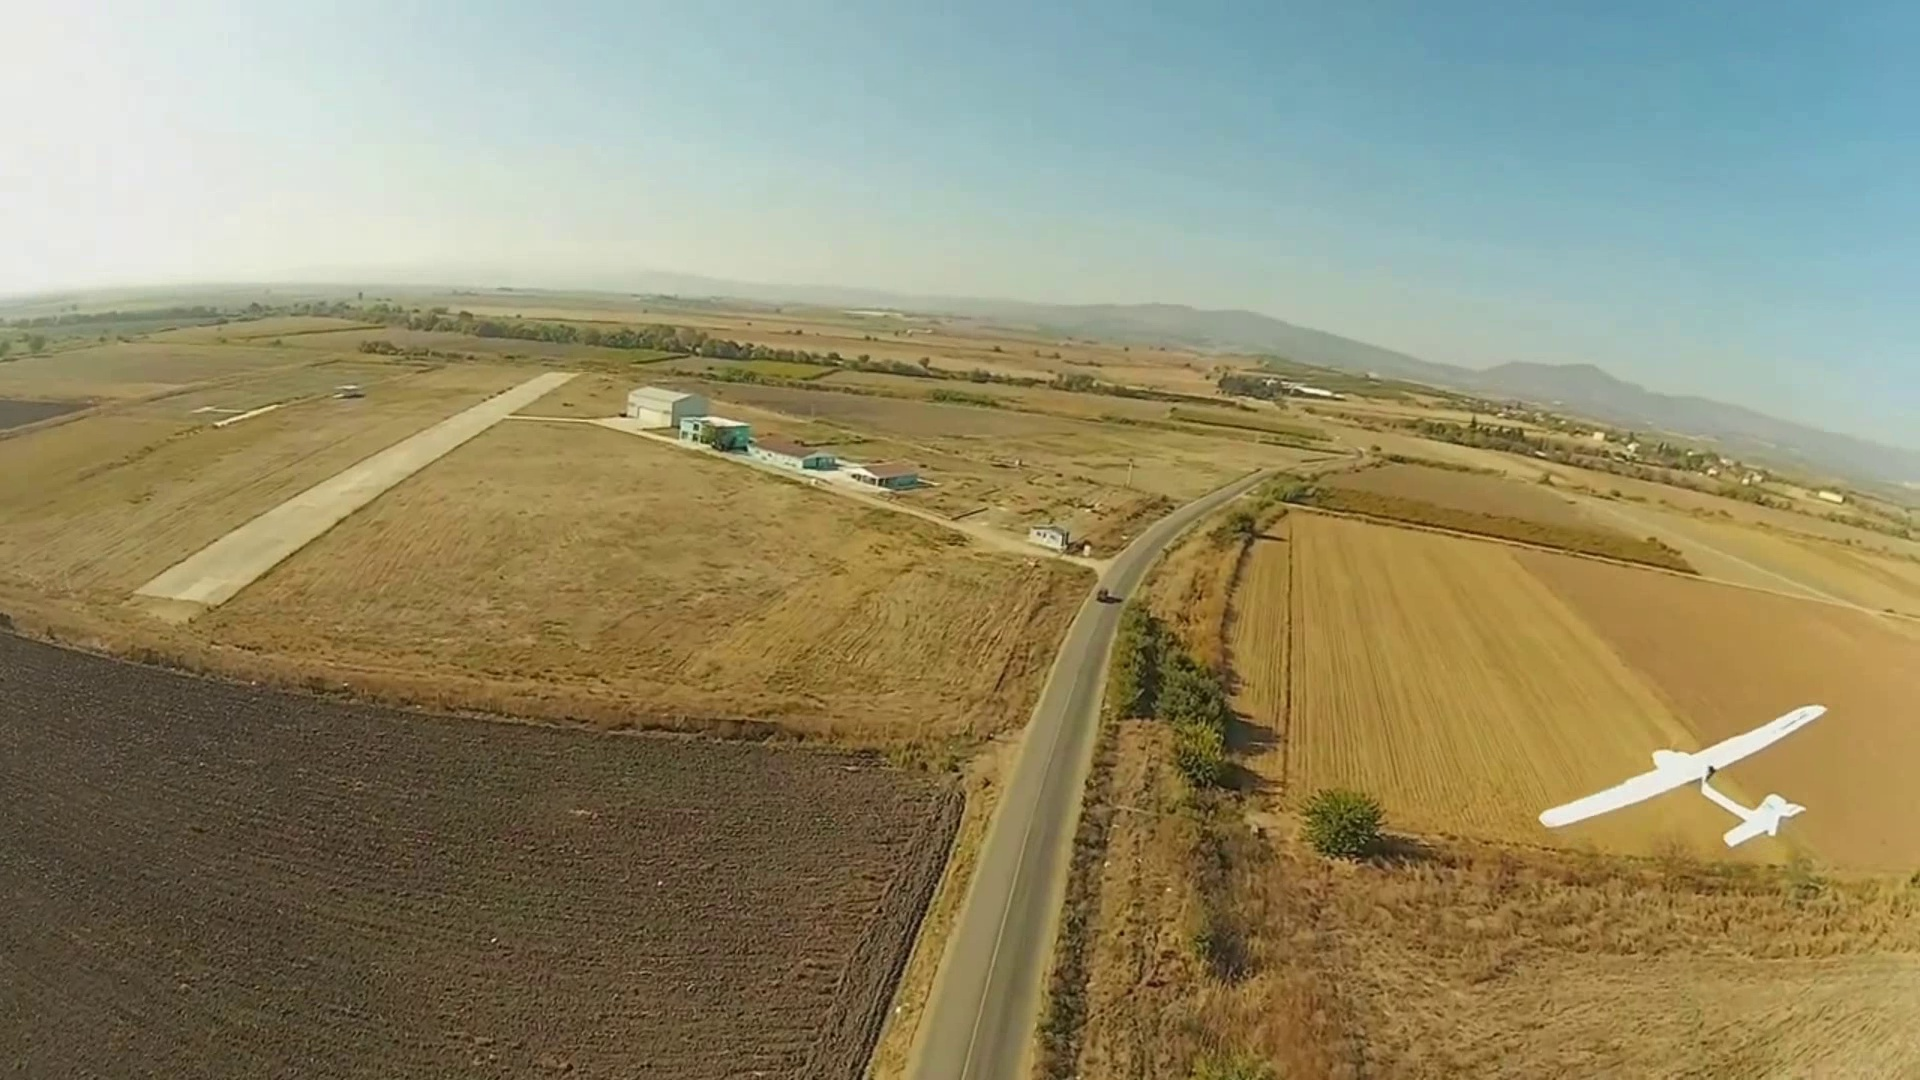airplane: (1539, 704, 1828, 861)
